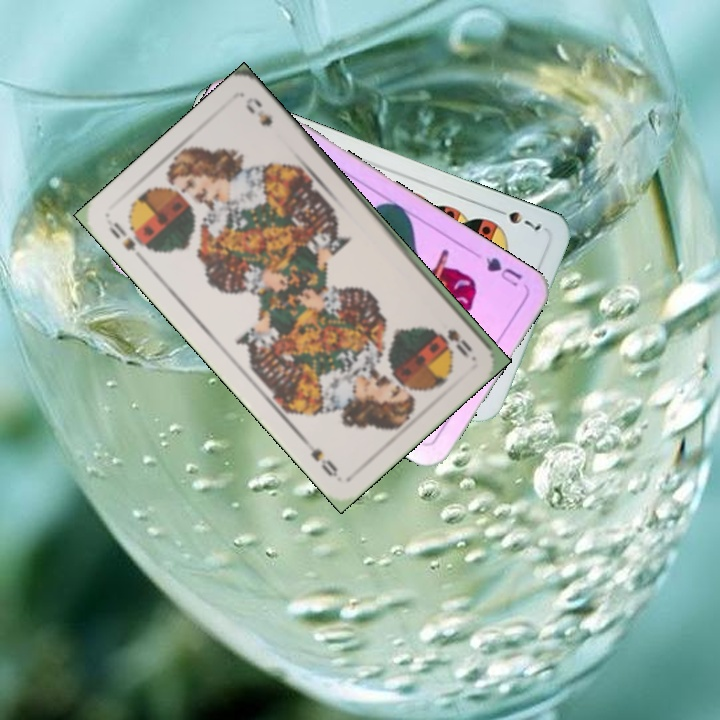GU: (481, 253, 525, 289)
S7: (490, 204, 544, 237)
SO: (104, 218, 151, 255), (443, 325, 475, 360)
